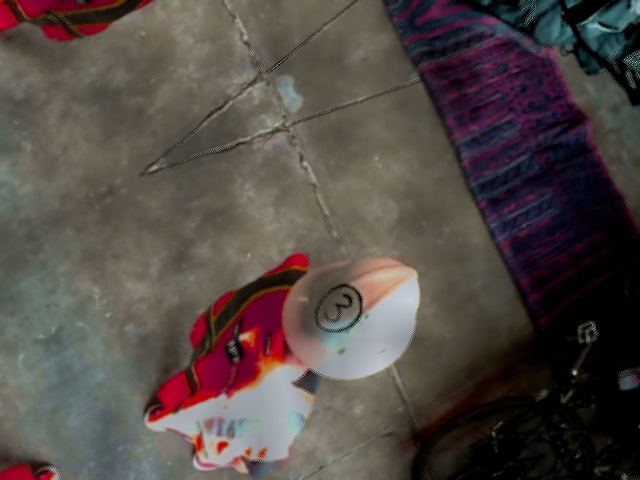three: (306, 276, 370, 340)
